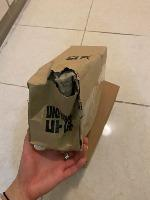damaged package: (44, 63, 83, 141)
undamaged: (23, 41, 120, 157)
